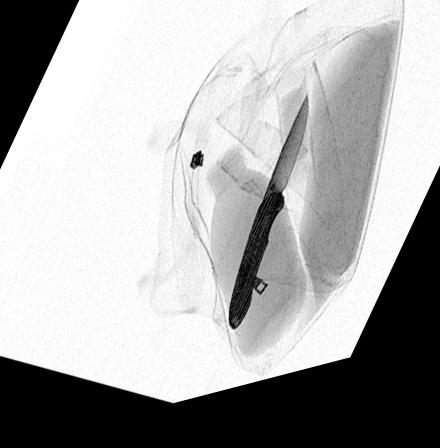Knife: (227, 109, 308, 342)
